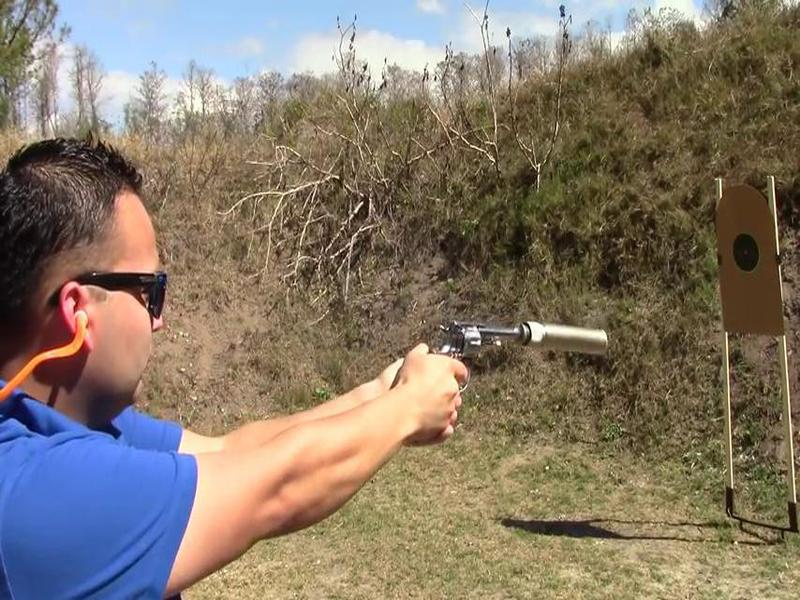Revolver: (405, 295, 529, 404)
